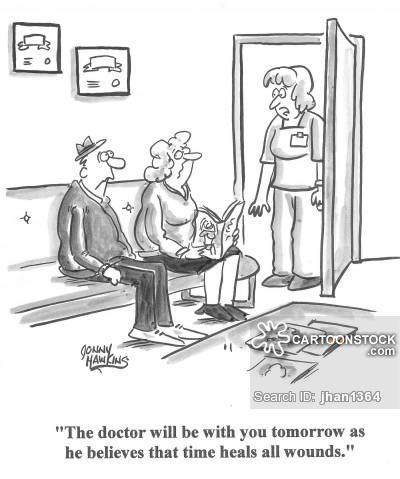person: (46, 131, 185, 344), (138, 130, 250, 322), (245, 64, 326, 291)
sofa: (4, 182, 254, 307)
